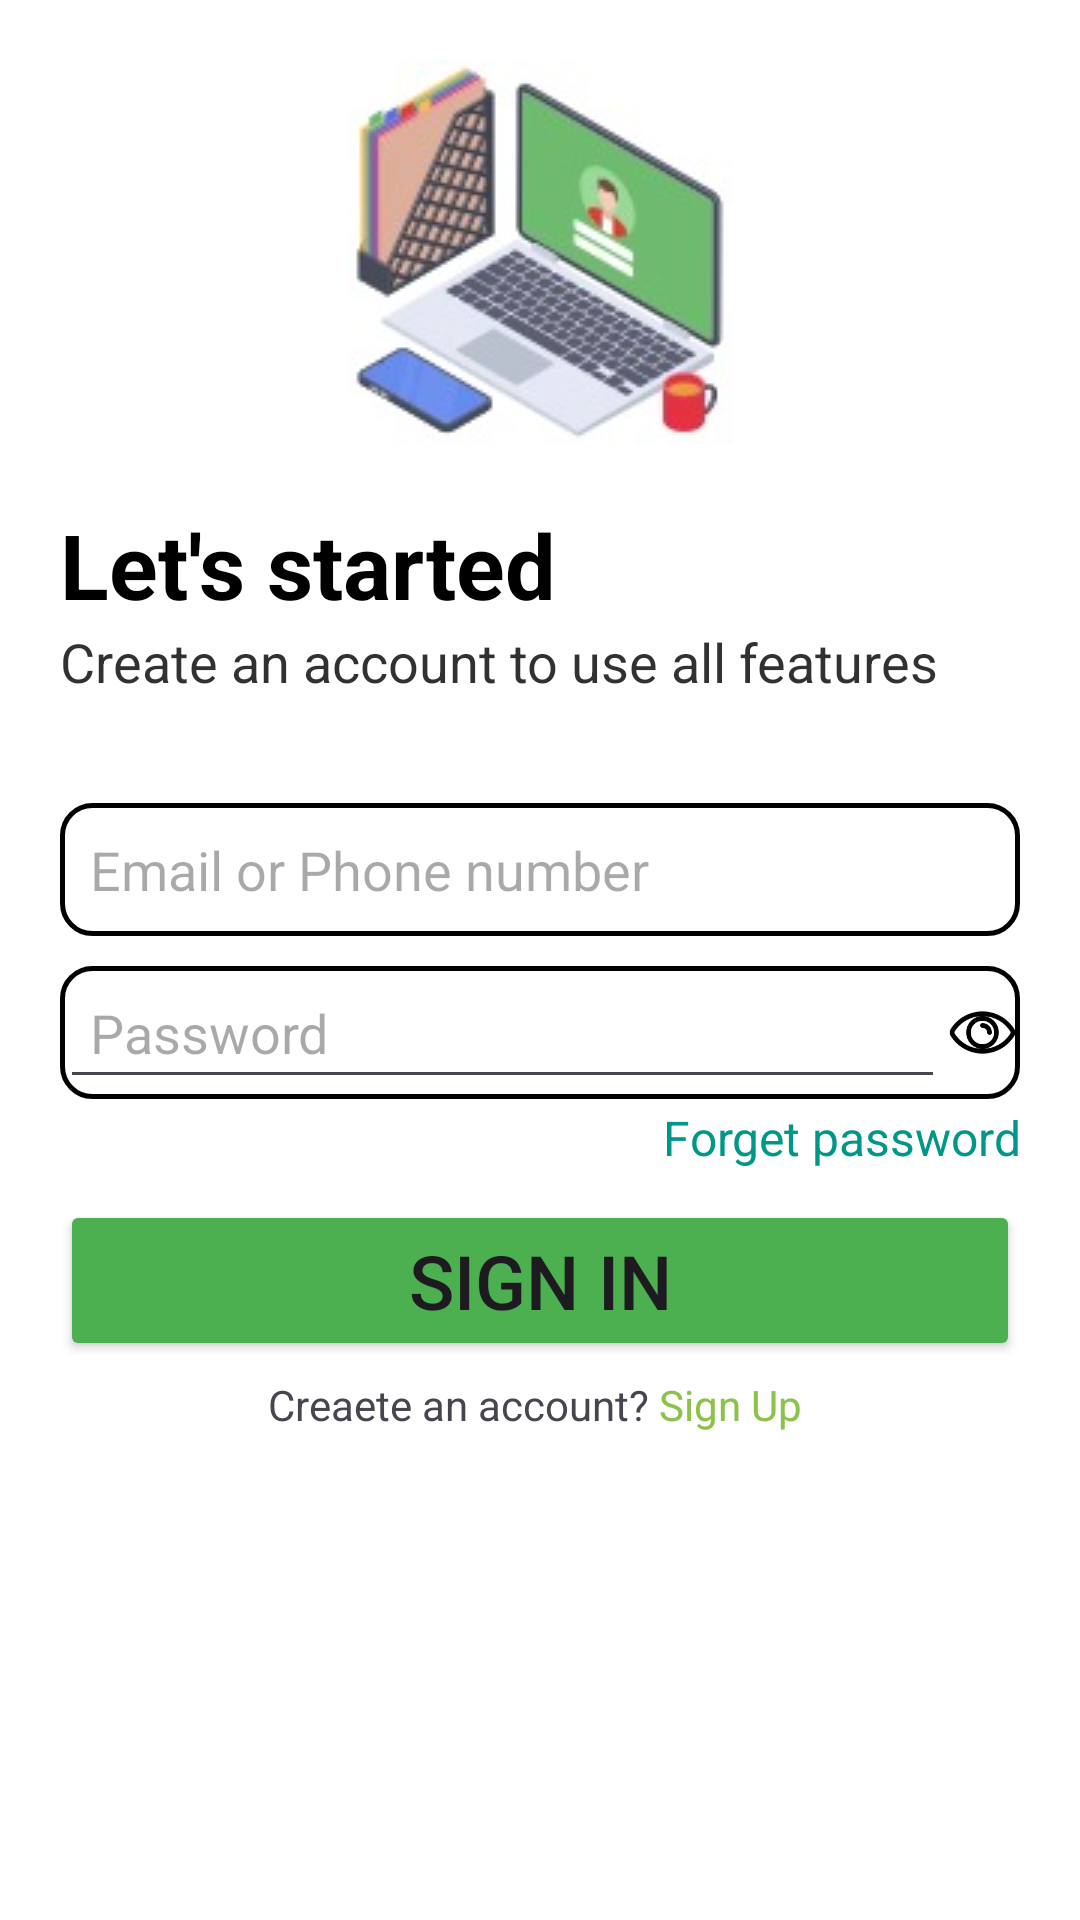

Icon click points for this 1080px x 1920px phone screenshot, format point (x, y):
eye: point (984, 1032)
